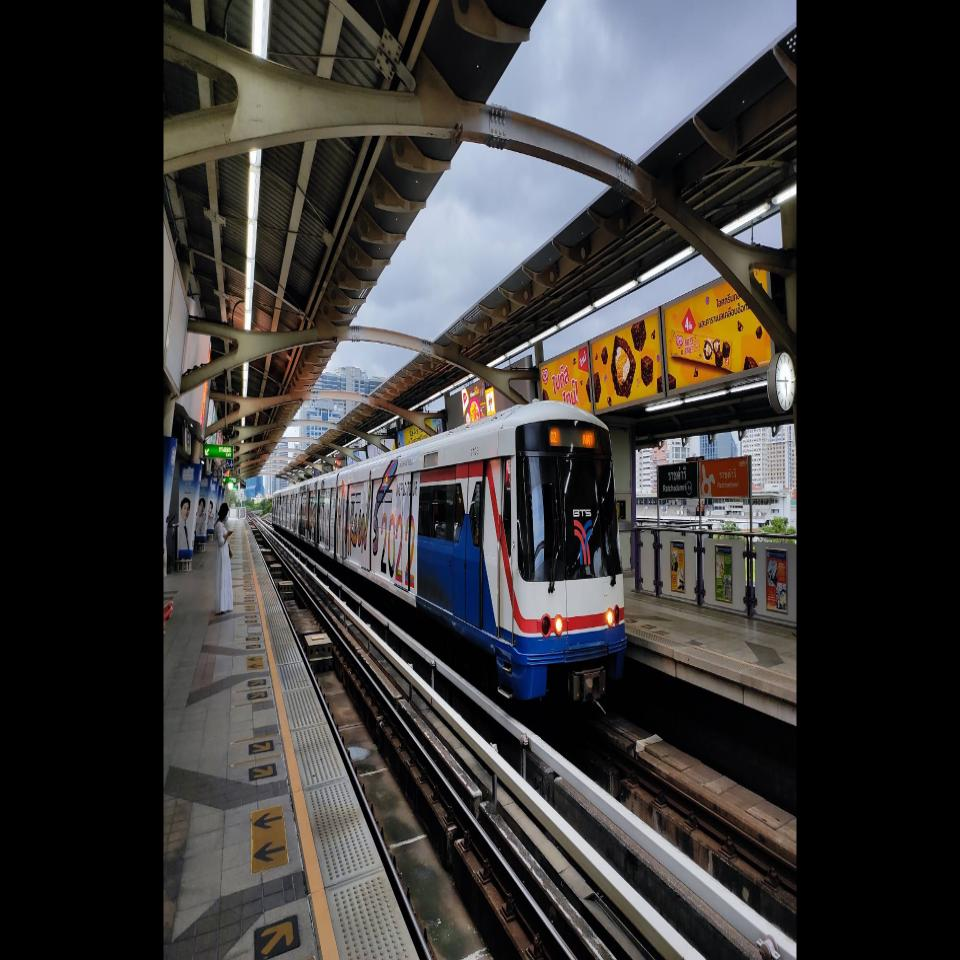signage: (700, 455, 749, 499), (657, 460, 699, 500)
